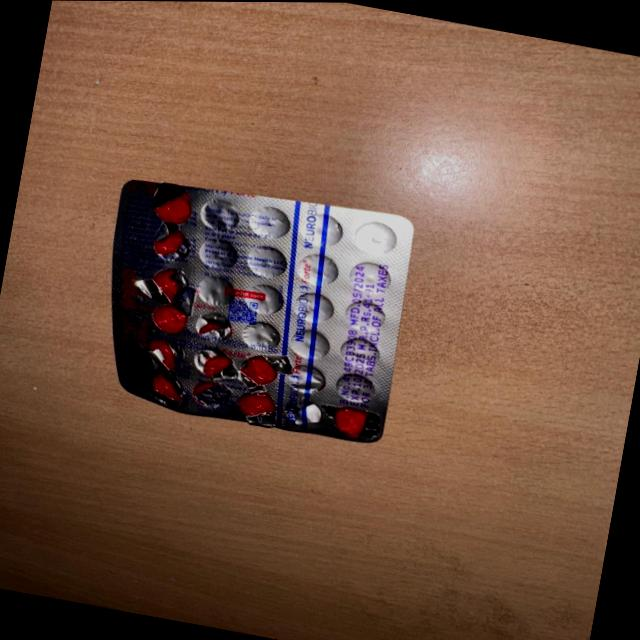medicine: (102, 163, 429, 453)
